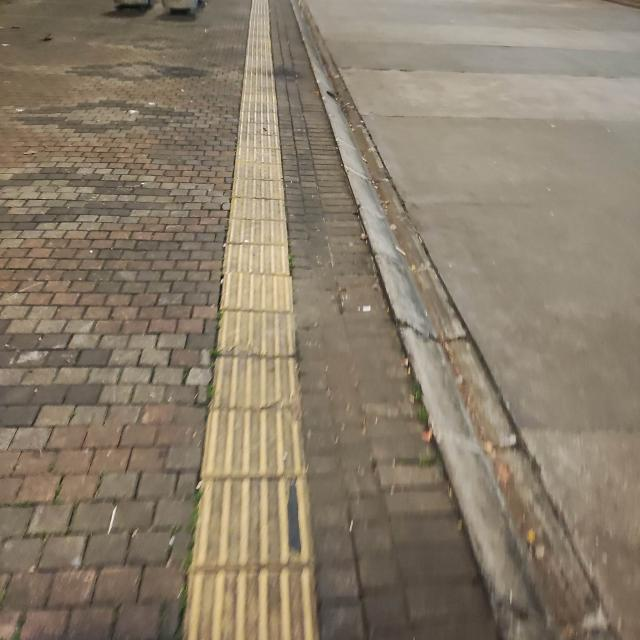lurus: (179, 52, 310, 640)
